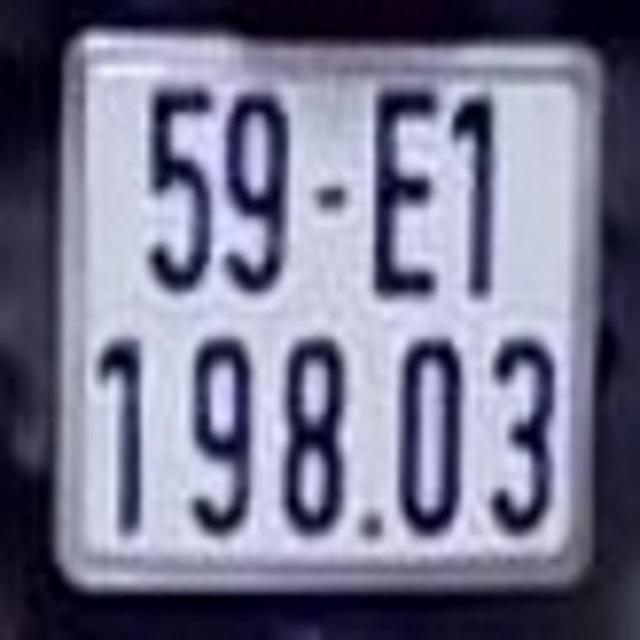0: (390, 322, 469, 546)
1: (86, 320, 167, 539), (447, 71, 513, 300)
3: (491, 320, 561, 545)
5: (132, 63, 219, 296)
8: (278, 314, 358, 549)
9: (180, 311, 261, 531), (227, 63, 297, 304)
E: (358, 72, 445, 293)
